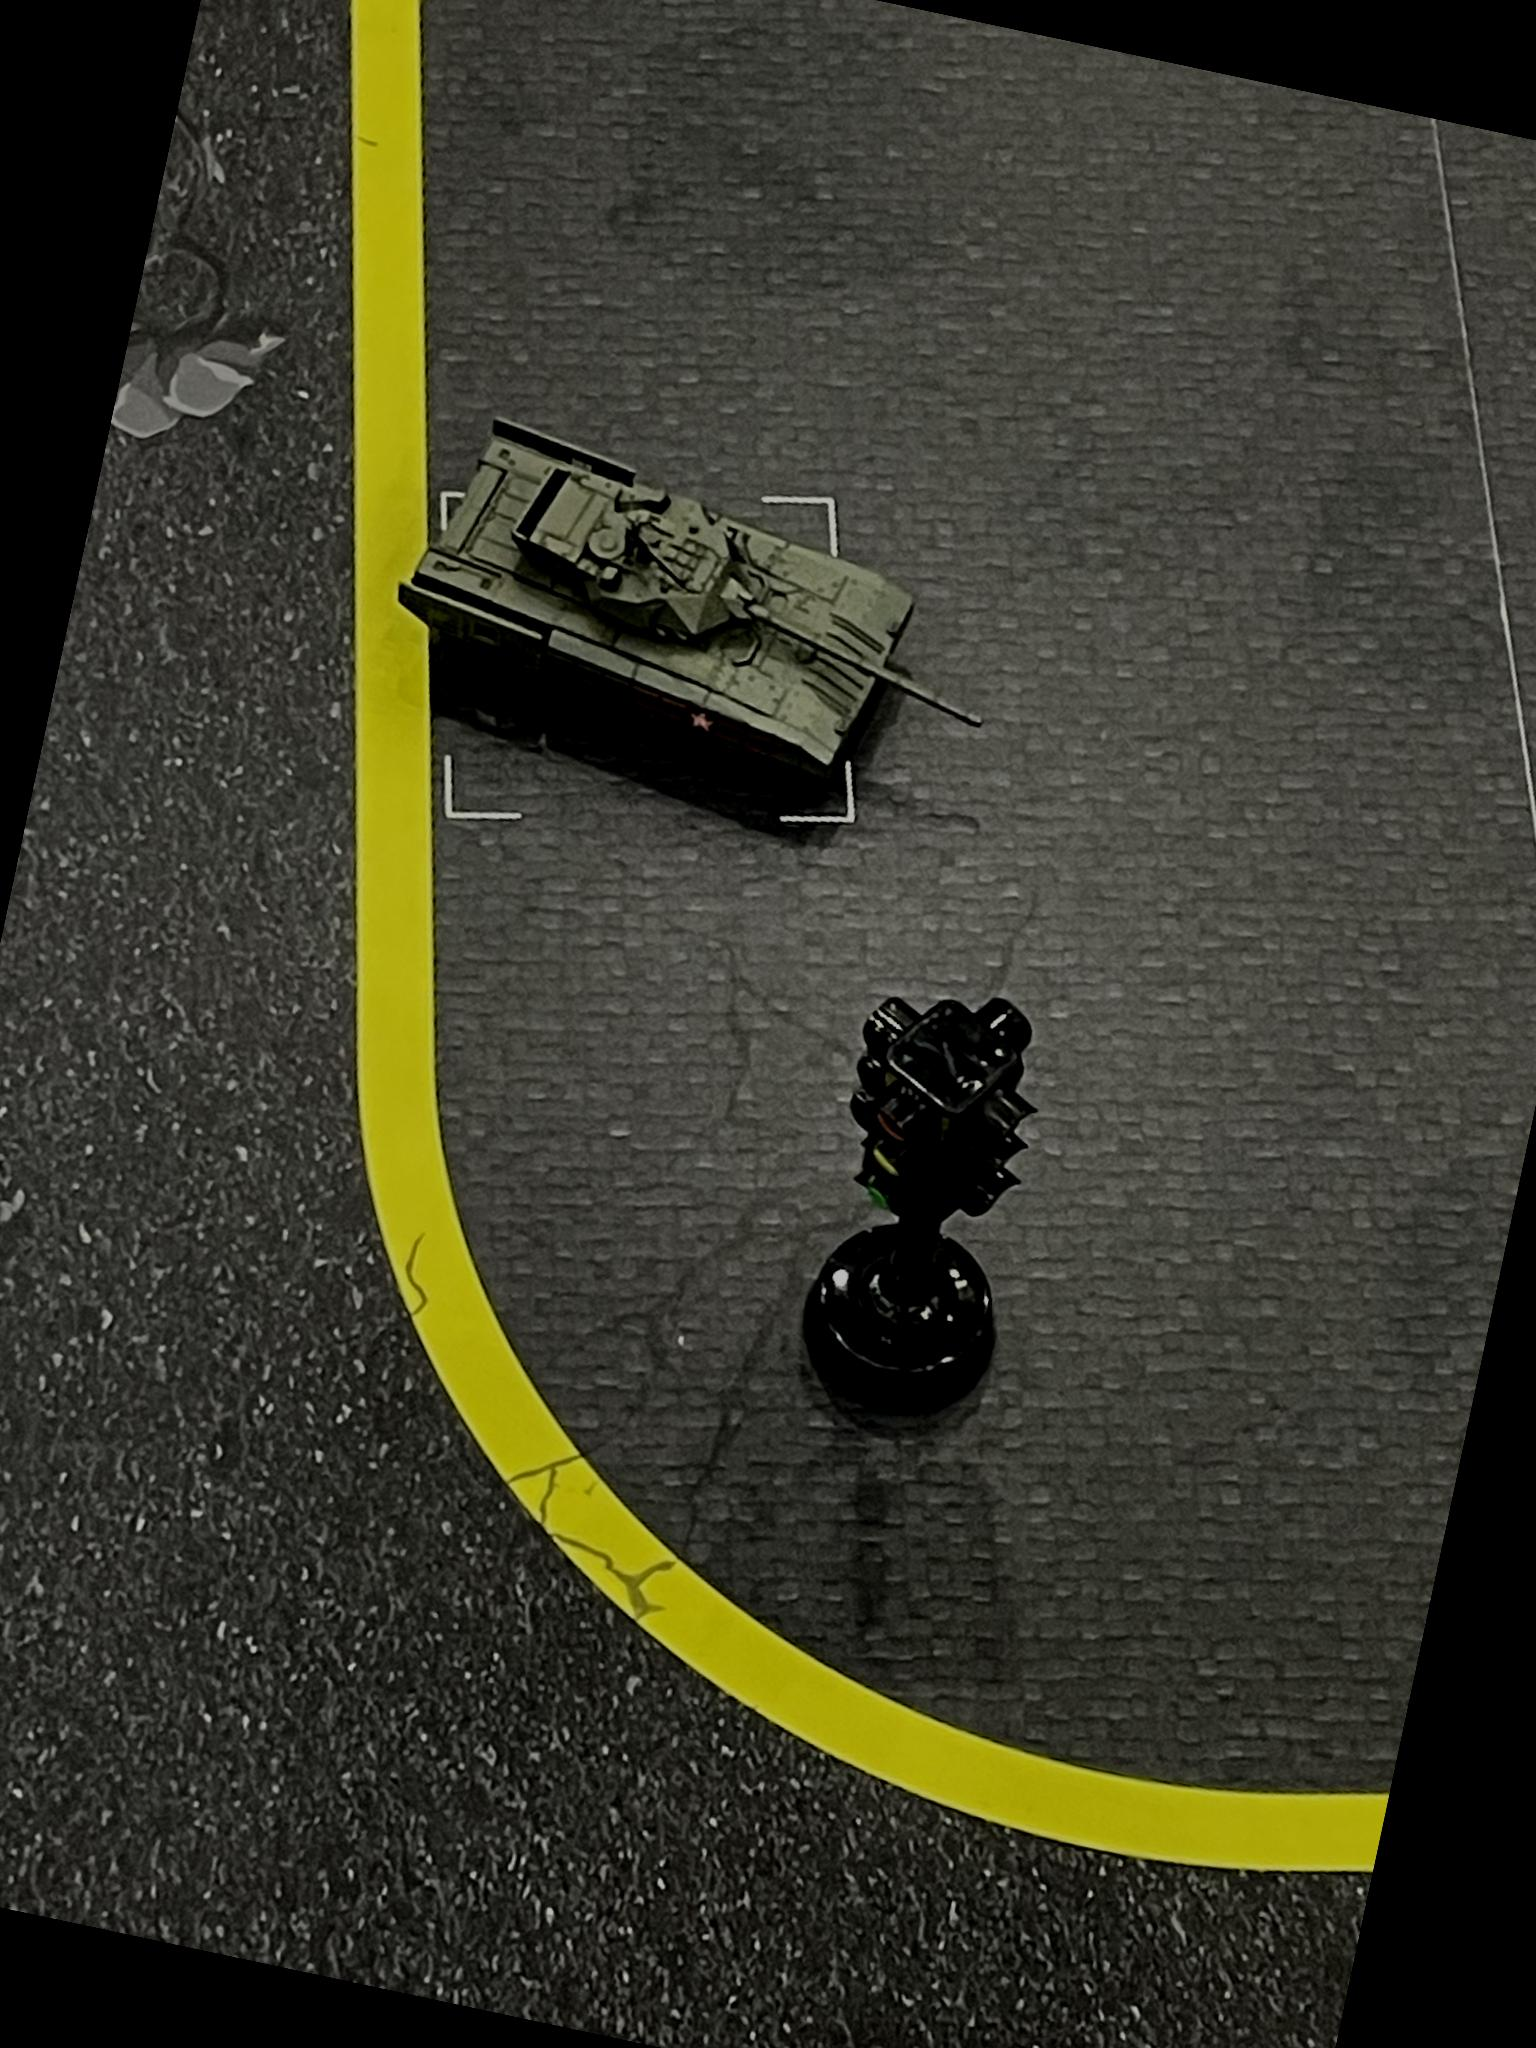Tank: (369, 389, 1028, 811)
